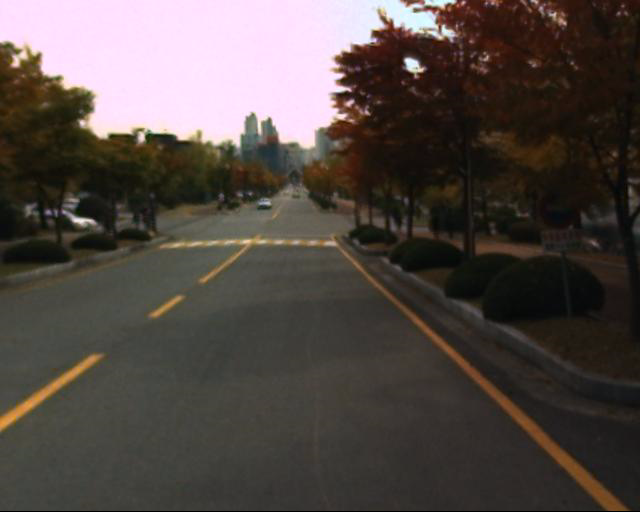person: (466, 205, 486, 248), (428, 209, 448, 250), (444, 209, 464, 249)
